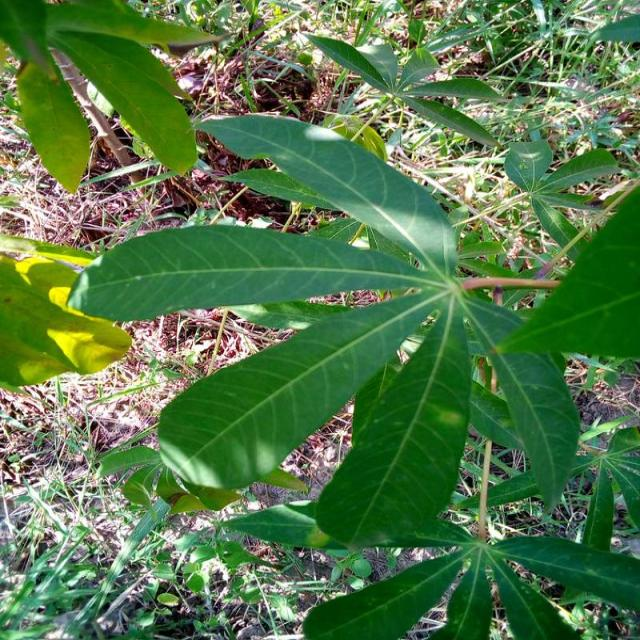cassava leaf: (156, 286, 445, 504), (314, 289, 471, 552), (64, 222, 426, 323), (489, 178, 638, 362), (0, 242, 132, 391)
